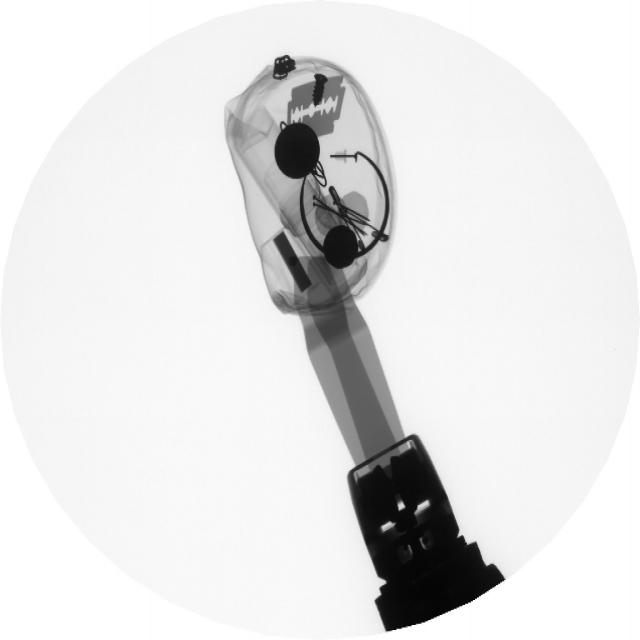BLADE: (283, 73, 348, 153)
